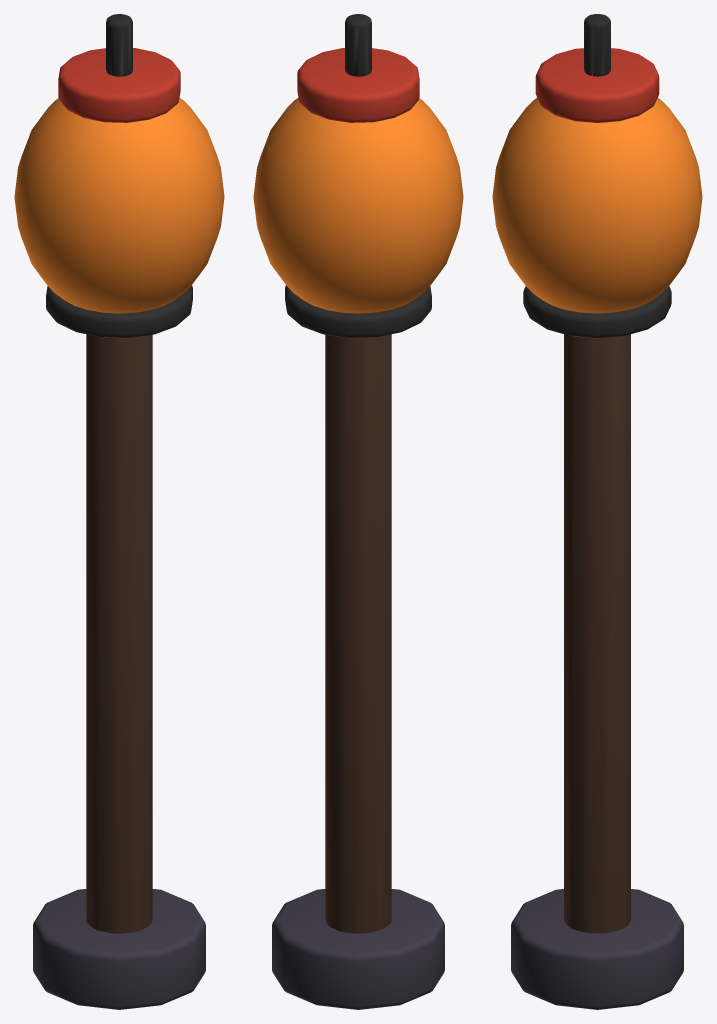
Rendered from LanternPost.fbx.
3 renders of one model, left to right at view 1: azimuth 30°, elevation 25°; view 2: azimuth 150°, elevation 25°; view 3: azimuth 270°, elevation 25°, orthographic.
Parts seen in each view (by area): view 1: LanternPost; view 2: LanternPost; view 3: LanternPost.
Boxes of the visible parts, <box> form: LanternPost: <box>14,14,224,1009</box>; LanternPost: <box>253,14,463,1009</box>; LanternPost: <box>492,14,702,1009</box>.
Size of the model in its own units: 1.7 by 8.55 by 1.7.
1 material, 1 textured.
